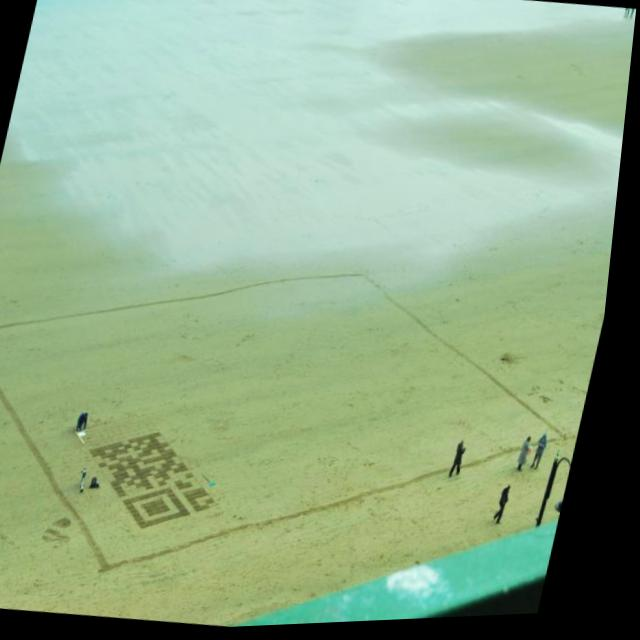qrcode: (84, 422, 242, 540)
